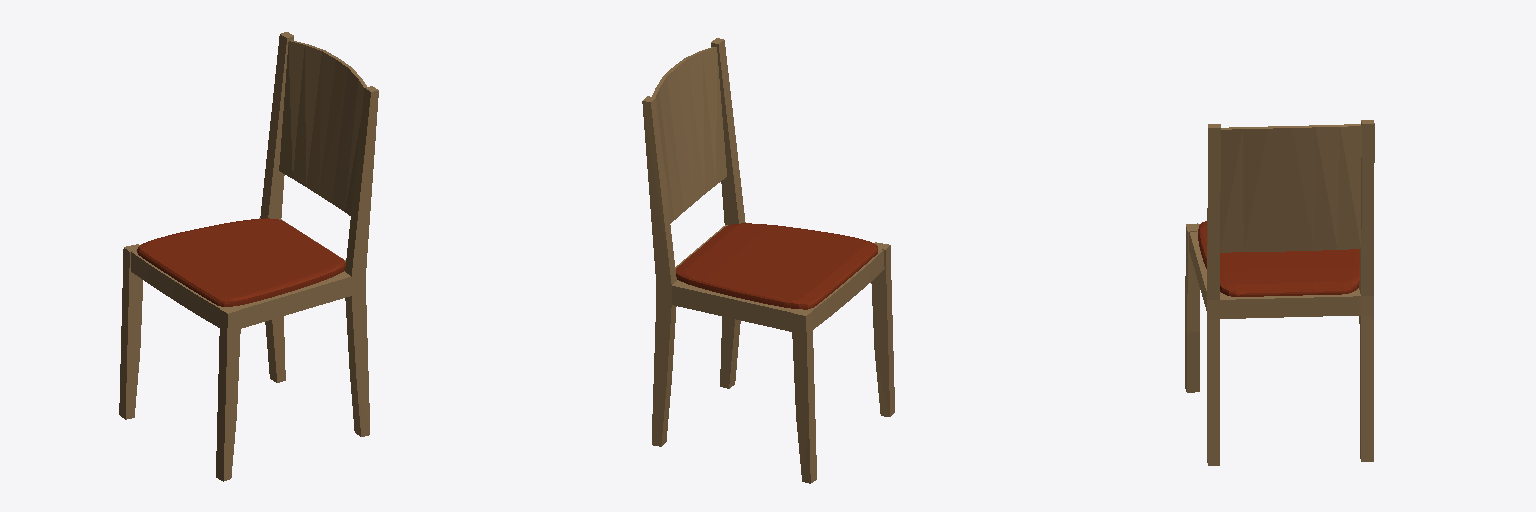
File: chair4.obj
The picture shows the model from 3 angles: view 1: azimuth 30°, elevation 25°; view 2: azimuth 150°, elevation 25°; view 3: azimuth 270°, elevation 25°; orthographic projection.
Visible parts, largest first — view 1: chair.002_Cube.021, cus_chair.002_Cube.022; view 2: chair.002_Cube.021, cus_chair.002_Cube.022; view 3: chair.002_Cube.021, cus_chair.002_Cube.022.
Part boxes in pixels (x1,y1,x2,y2): chair.002_Cube.021: (119, 32, 378, 481); cus_chair.002_Cube.022: (137, 218, 345, 306); chair.002_Cube.021: (642, 38, 894, 483); cus_chair.002_Cube.022: (676, 223, 877, 309); chair.002_Cube.021: (1185, 120, 1374, 465); cus_chair.002_Cube.022: (1198, 221, 1359, 296).
Size of the model in its own units: 0.4839 by 0.8837 by 0.4419.